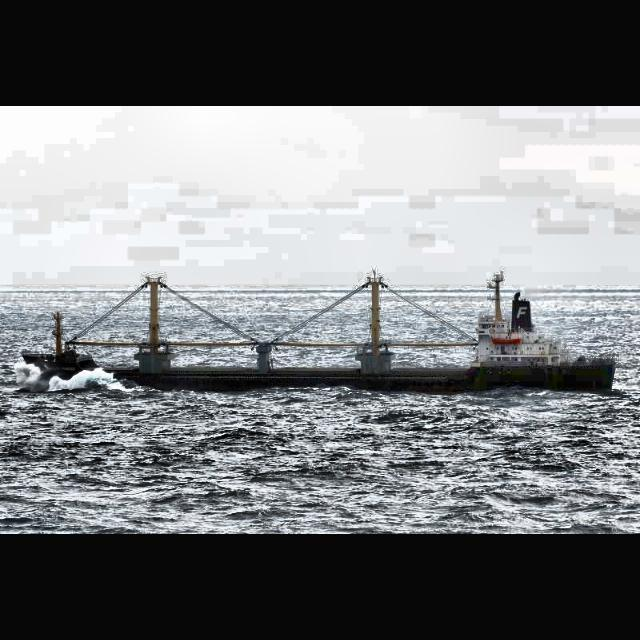bulk_carrier: (20, 262, 616, 394)
